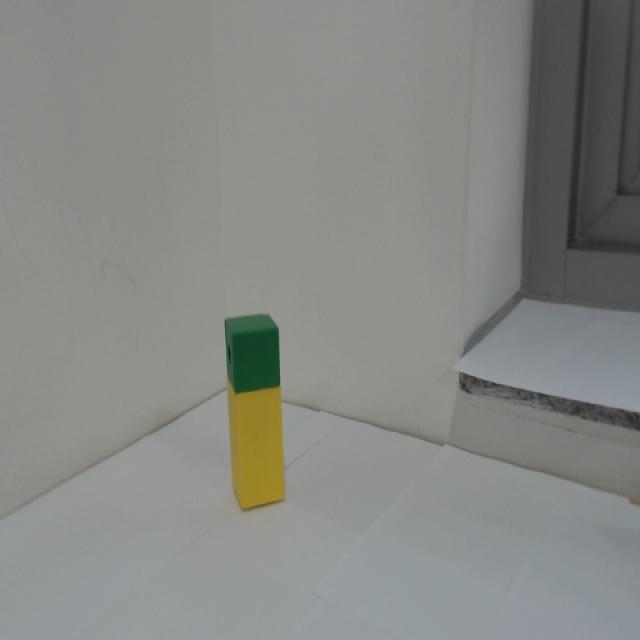cube: (222, 310, 283, 394)
